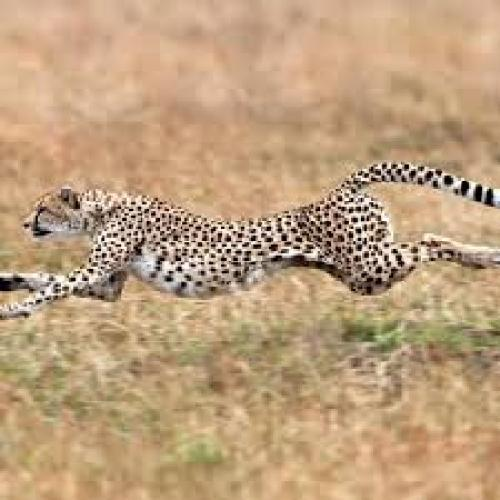cheetah-endangered: (0, 164, 500, 322)
